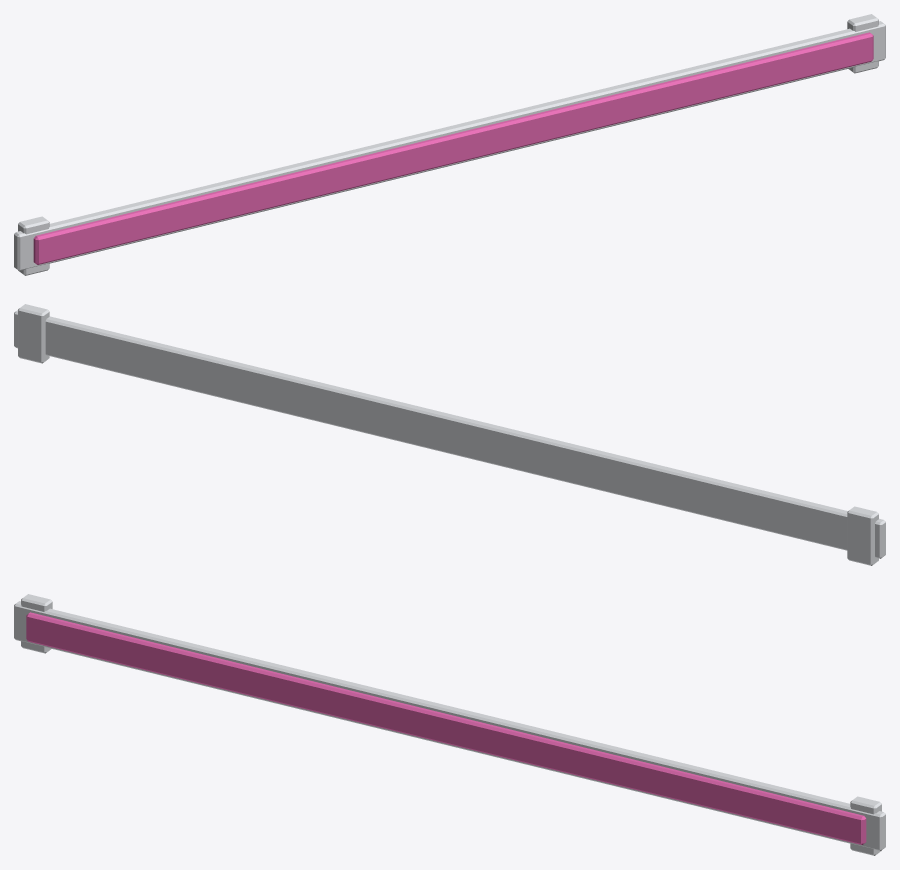
Rendered from laser-tag-arena-and-activity-centre-glow-stripe-trim-9a5469c6__34482.glb.
3 views of the same model, one above another, from view 1: azimuth 30°, elevation 25°; view 2: azimuth 150°, elevation 25°; view 3: azimuth 330°, elevation 25° (orthographic).
Parts seen in each view (by area): view 1: glow-stripe-trim; view 2: glow-stripe-trim; view 3: glow-stripe-trim.
Part boxes in pixels (x1,y1,x2,y2): glow-stripe-trim: [14, 14, 885, 275]; glow-stripe-trim: [14, 304, 885, 565]; glow-stripe-trim: [14, 594, 885, 855].
Size of the model in its own units: 2 by 0.1101 by 0.044.
